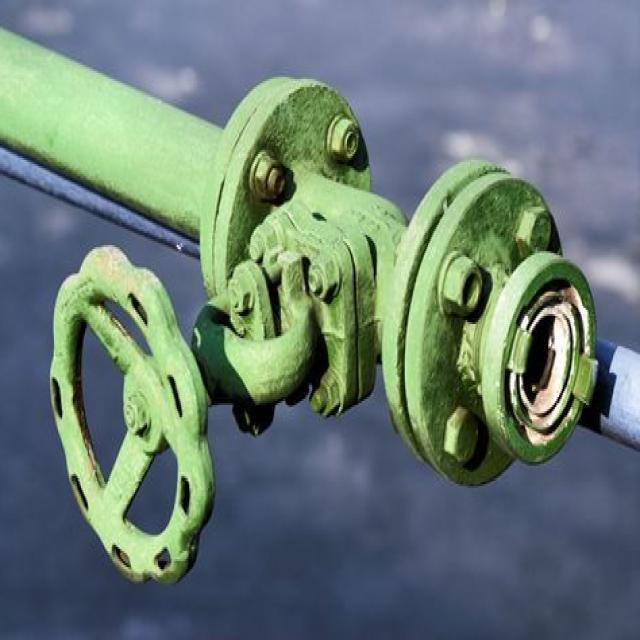Wheel Handle Valve Threaded: (49, 232, 218, 588)
